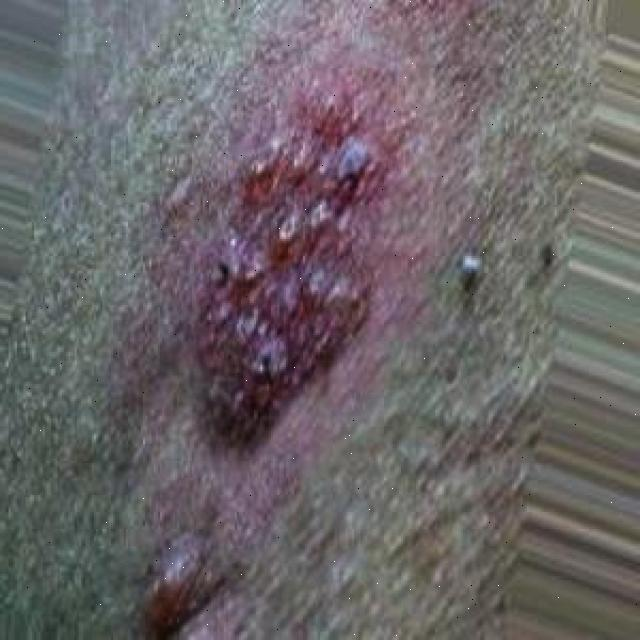Shingles: (183, 72, 401, 444)
